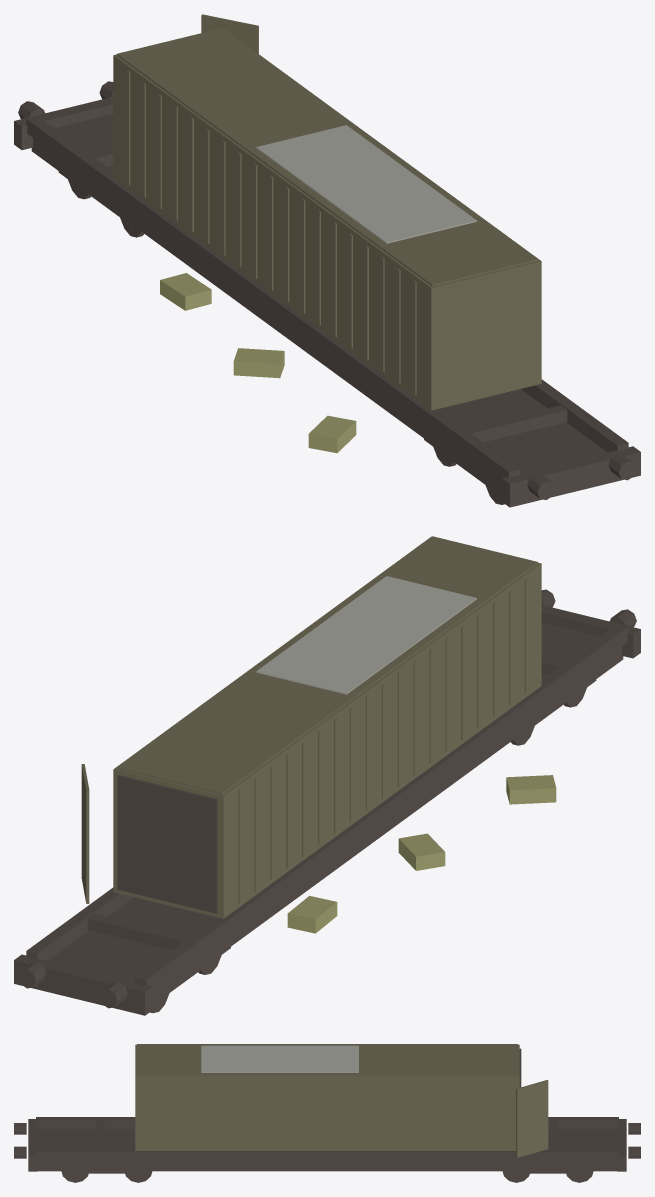
File: SM_VagonAbandonado_v4_Quemado_LOD0.fbx
The picture shows the model from 3 angles, top to bottom: view 1: azimuth 30°, elevation 25°; view 2: azimuth 150°, elevation 25°; view 3: azimuth 270°, elevation 25°; orthographic projection. The views are drawn at different scales.
Visible parts, largest first — view 1: SM_vagon_abandonado_v4_LOD0; view 2: SM_vagon_abandonado_v4_LOD0; view 3: SM_vagon_abandonado_v4_LOD0.
Part boxes in pixels (x1,y1,x2,y2): SM_vagon_abandonado_v4_LOD0: (14,14,640,507); SM_vagon_abandonado_v4_LOD0: (14,536,640,1015); SM_vagon_abandonado_v4_LOD0: (14,1044,640,1182).
Size of the model in its own units: 4.7 by 3.93 by 19.9.
